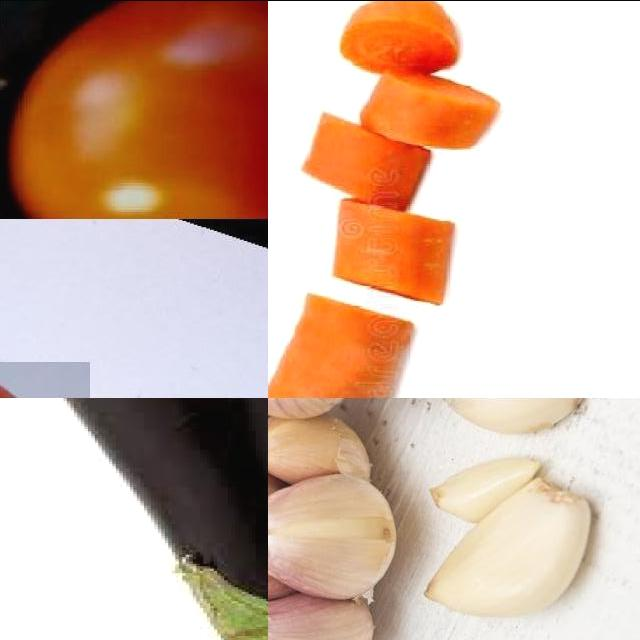carrot: (269, 288, 427, 398)
eggplant: (46, 398, 269, 640)
garlic: (269, 399, 402, 640), (422, 476, 598, 622), (430, 450, 551, 522), (440, 398, 601, 438)
tomato: (1, 1, 269, 219)
